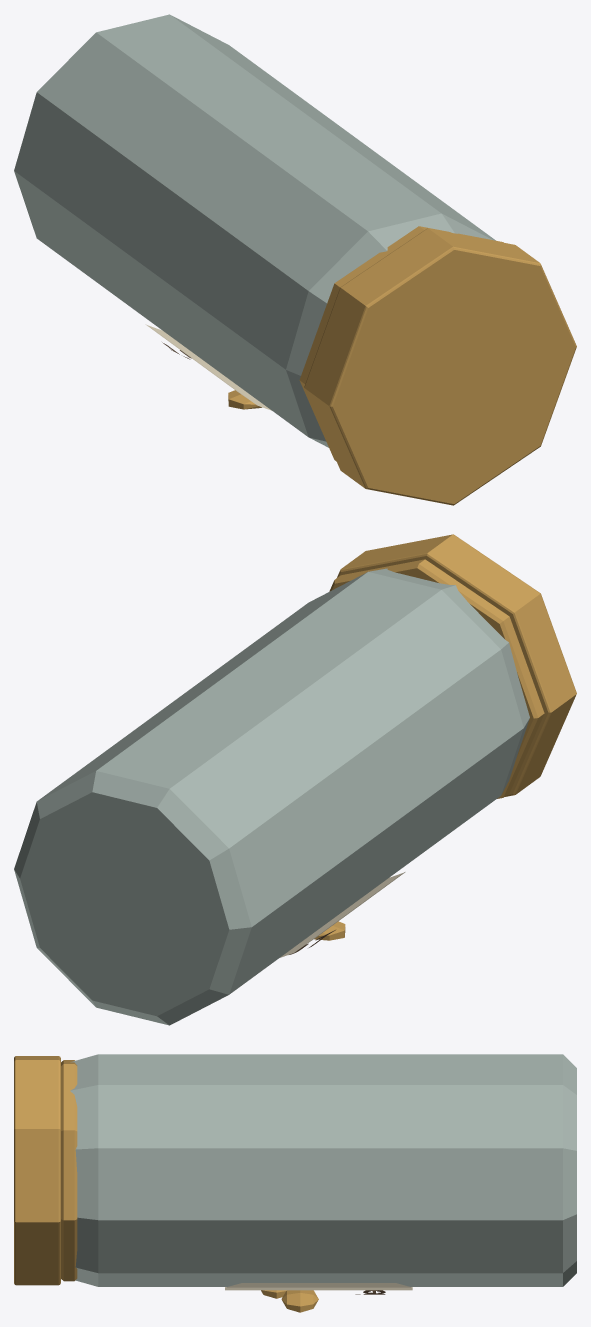
The model's file is turmeric.glb.
3 views of the same model, one above another, from view 1: azimuth 30°, elevation 25°; view 2: azimuth 150°, elevation 25°; view 3: azimuth 270°, elevation 25° (orthographic). The views are drawn at different scales.
Parts seen in each view (by area): view 1: turmeric; view 2: turmeric; view 3: turmeric.
Part boxes in pixels (x1,y1,x2,y2): turmeric: (14,14,576,505); turmeric: (14,534,576,1025); turmeric: (14,1054,576,1312).
Size of the model in its own units: 0.052 by 0.0545 by 0.12.
